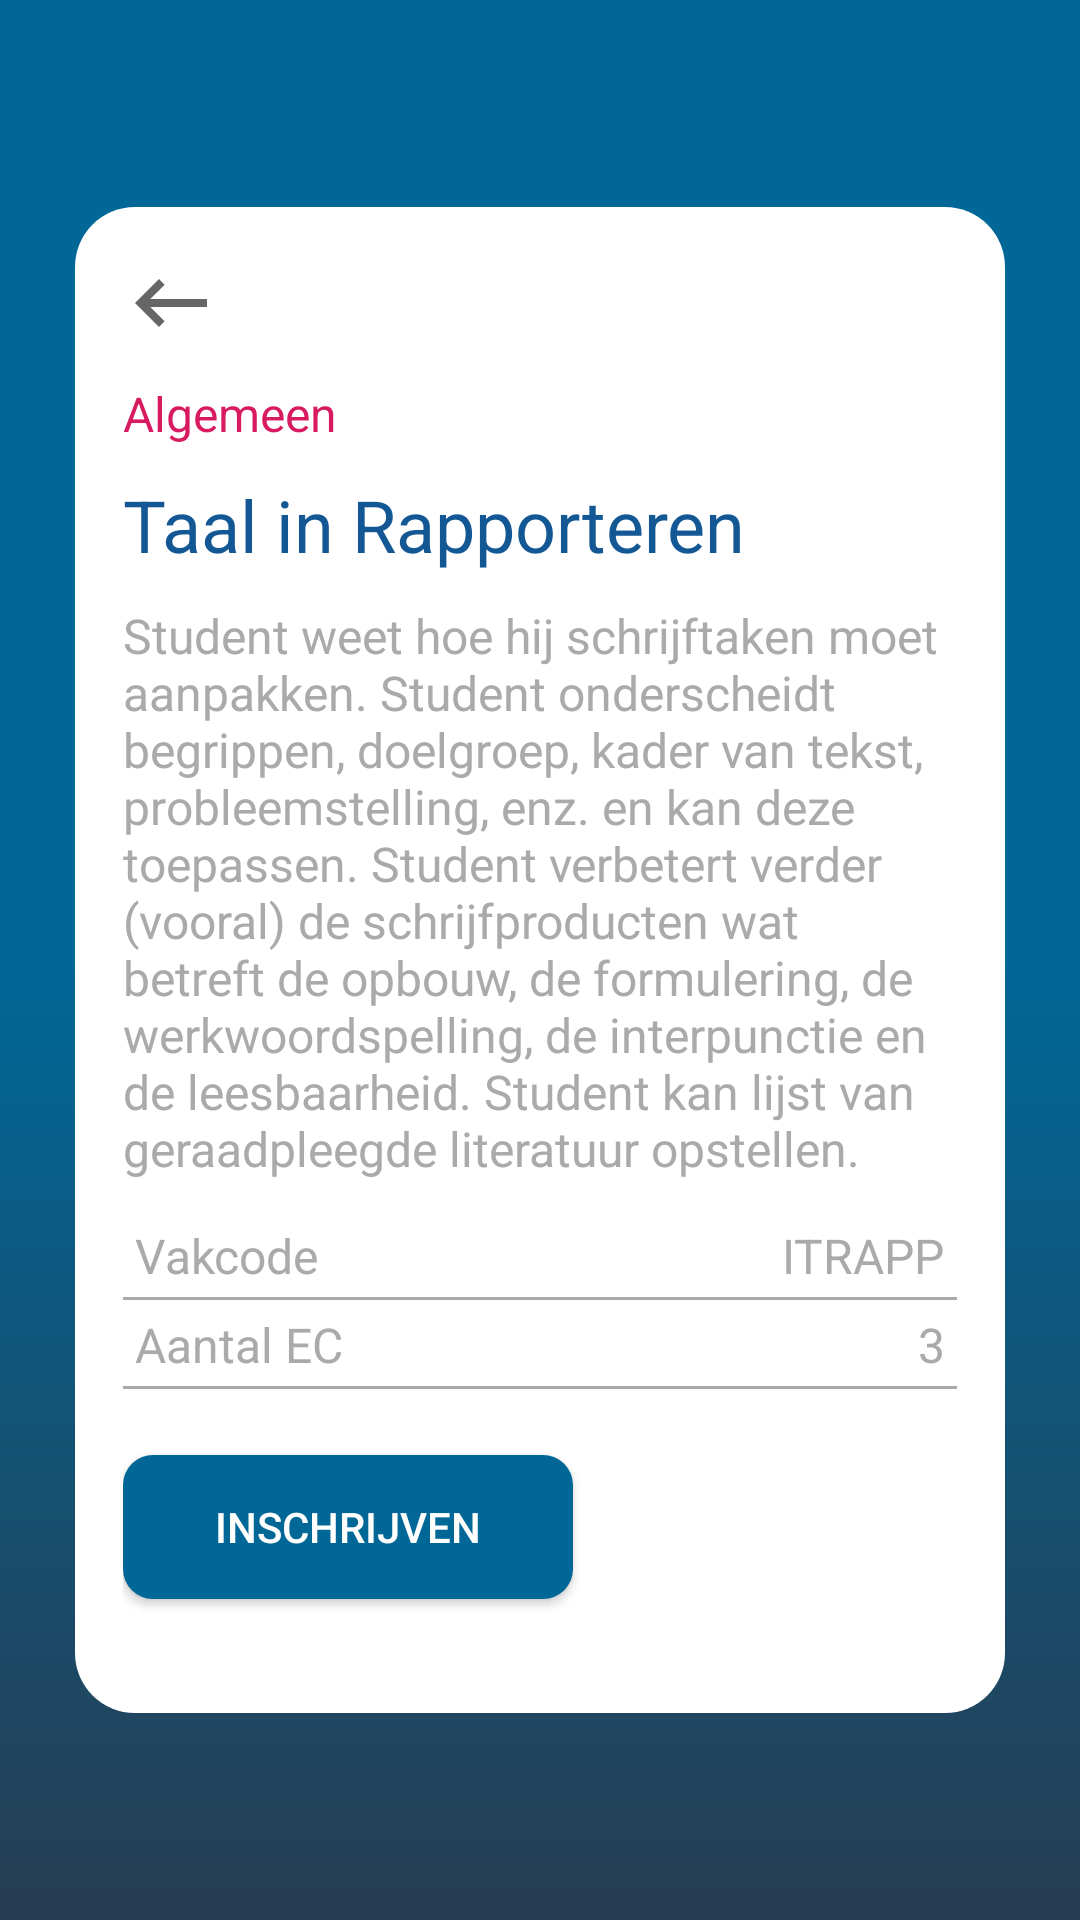

Screen size 1080 × 1920. Icon name, then its center in pixels as [x,y]:
navigate back: [171,303]
